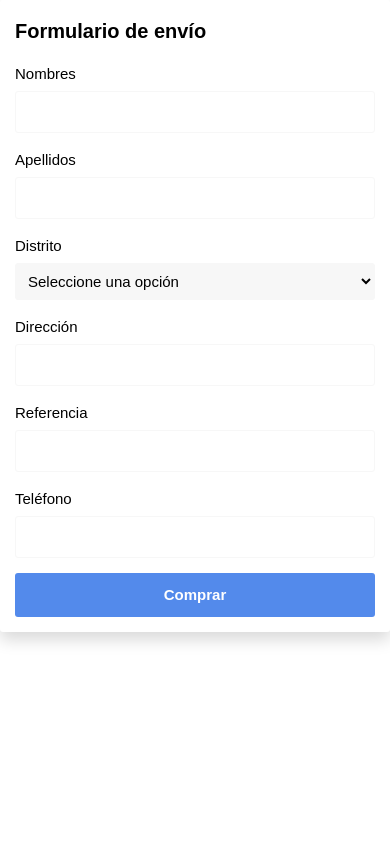
ShipmentForm › validates required fields and shows errors
Click the button "Comprar": {"x": 195, "y": 595} [15,573,375,617]
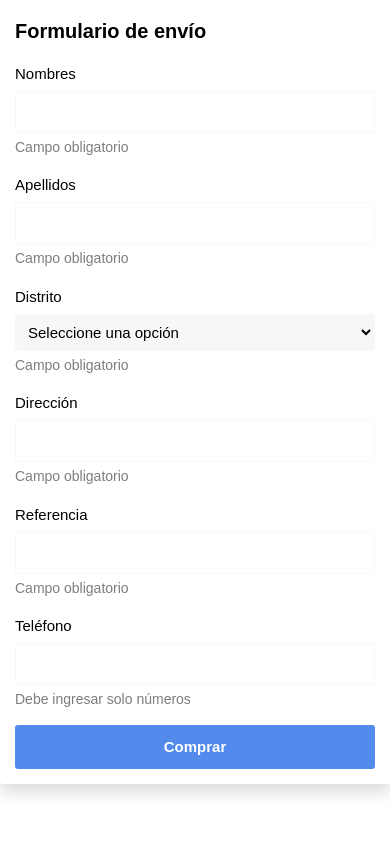
expect the text "Campo obligatorio" is shown 5 times: met, box [15,139,129,155]; [15,250,129,266]; [15,357,129,373]; [15,468,129,484]; [15,580,129,596]
